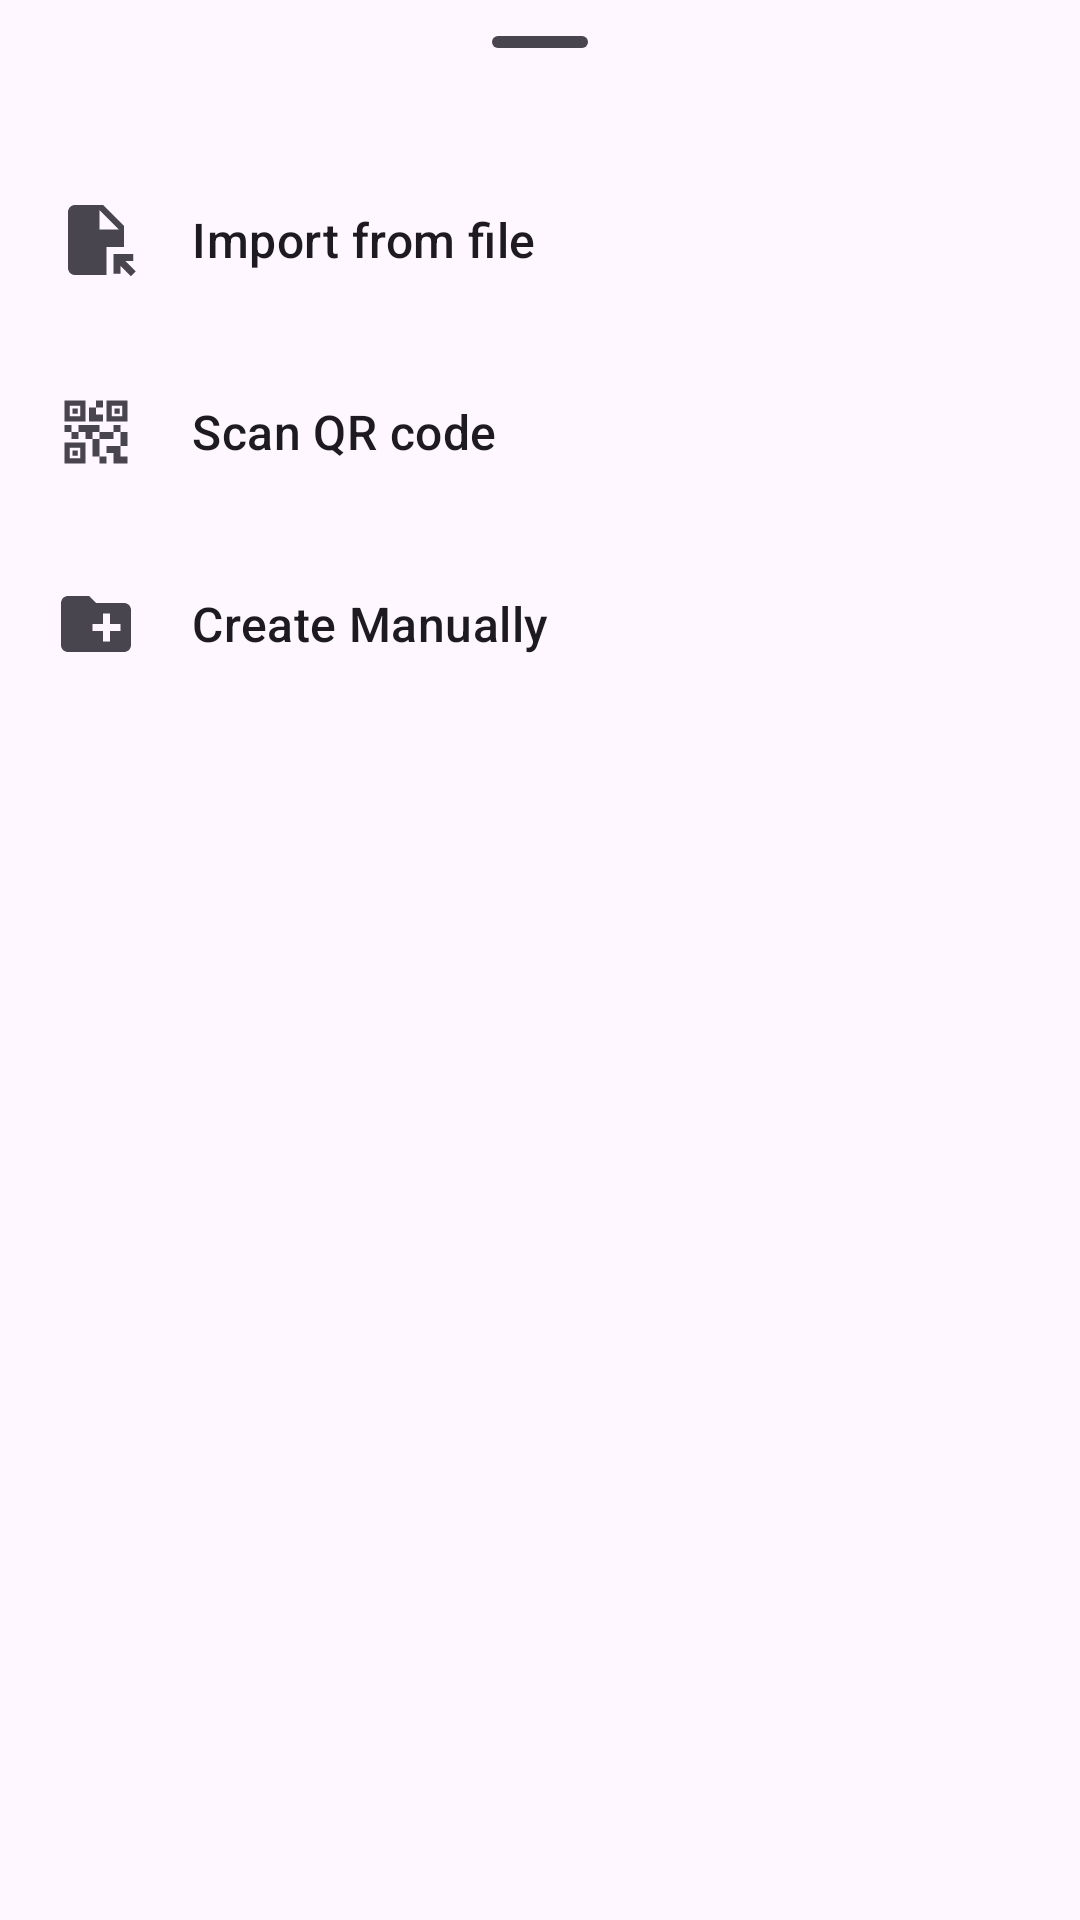

Screen size 1080w x 1920h. Icon name, then its box in pixels as (x1, y1, x2, y2):
create folder: (61, 596, 131, 652)
file open: (68, 205, 136, 276)
